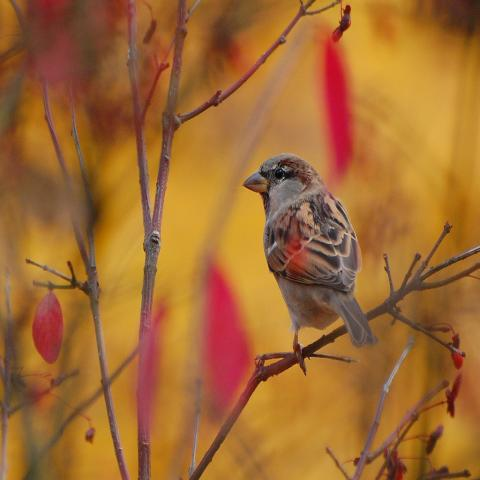bird: (240, 150, 379, 375)
